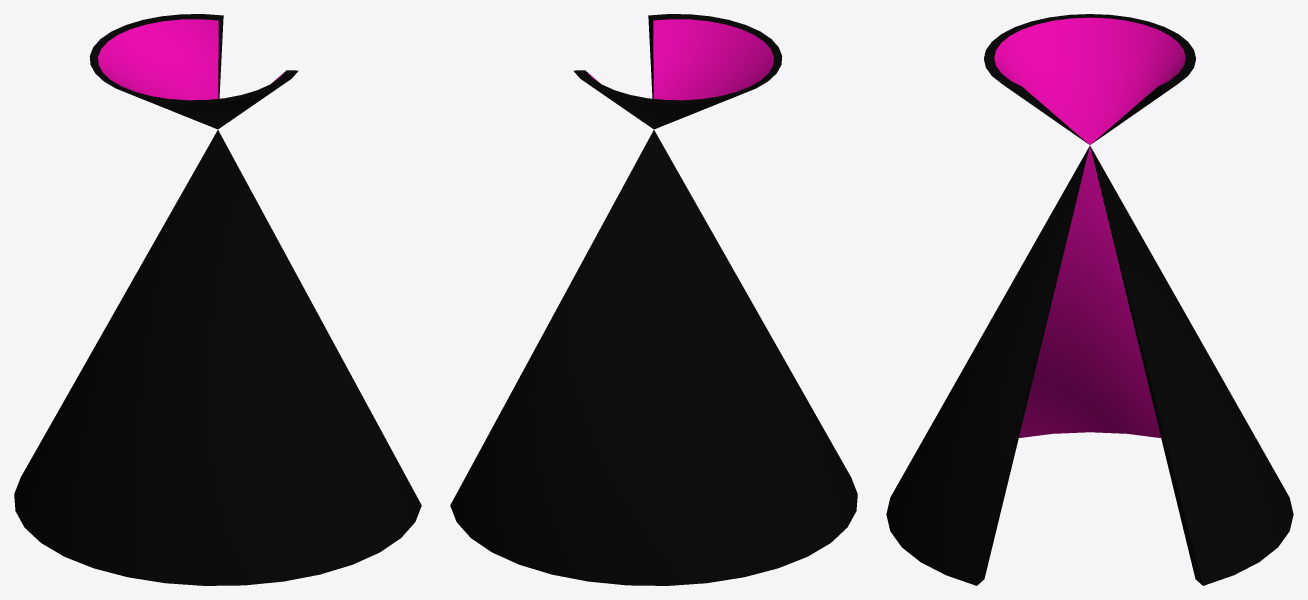
File: PhantomCloak.fbx
3 renders of one model, left to right at view 1: azimuth 30°, elevation 25°; view 2: azimuth 150°, elevation 25°; view 3: azimuth 270°, elevation 25°, orthographic.
Visible parts, largest first — view 1: Cone; view 2: Cone; view 3: Cone.
Boxes of the visible parts, x1,y1,x2,y2 form: Cone: (14, 14, 421, 585); Cone: (450, 14, 857, 585); Cone: (886, 14, 1293, 585).
Bounding box in the file's own units: 183 × 241 × 200.
